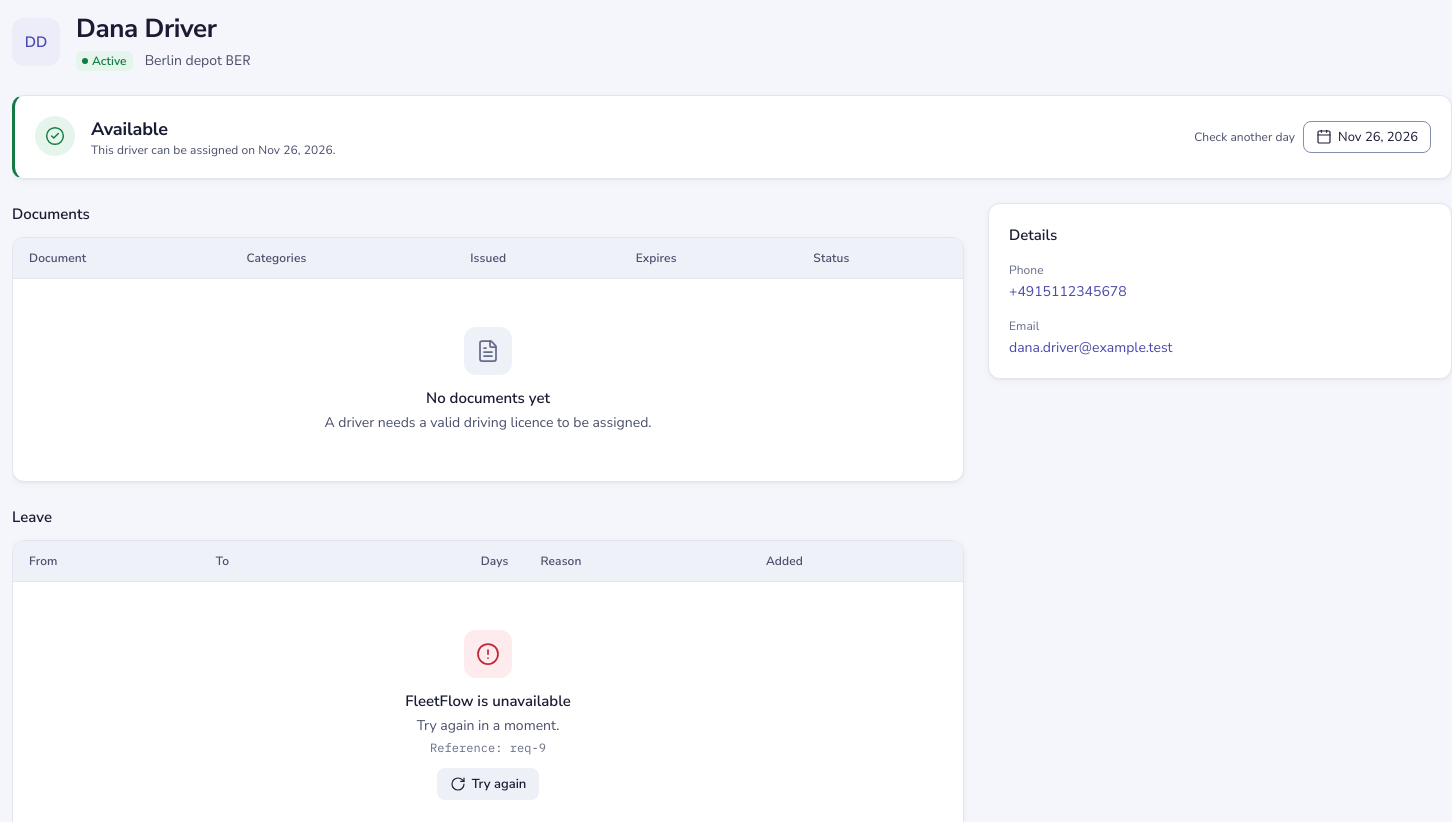
Test: DriverDetail › keeps the rest of the page when only the leave fails, and retries it
The image size is (1452, 822).
Expected: the text "Reference: req-9" is shown, 430,740 -> 546,755
Expected: the heading "Dana Driver" is shown, 76,11 -> 217,46
Click the button "Try again".
click(488, 784)  # box 437,768 -> 539,800
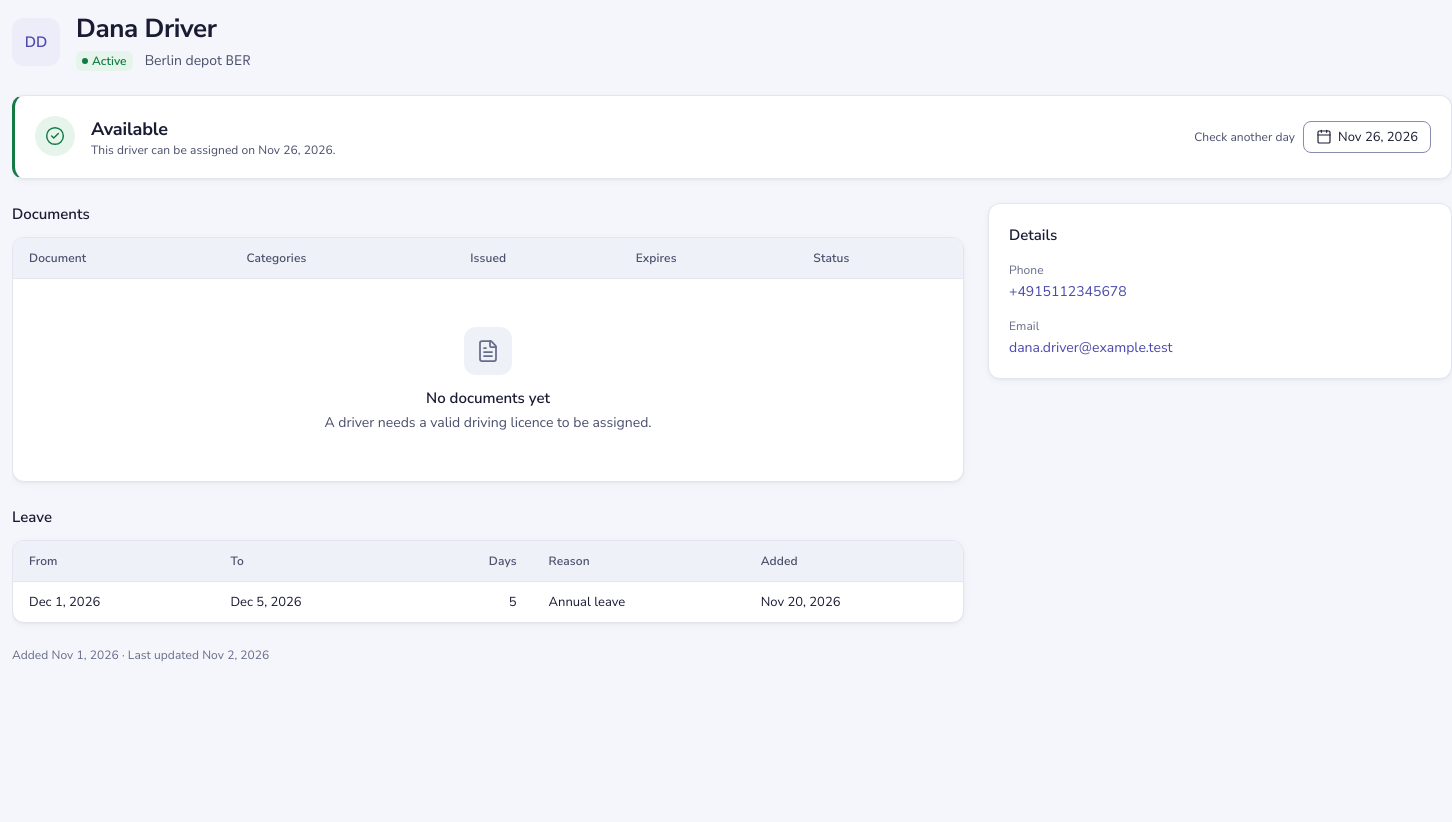
Now the text "Annual leave" is shown, box 533,582 -> 745,622
